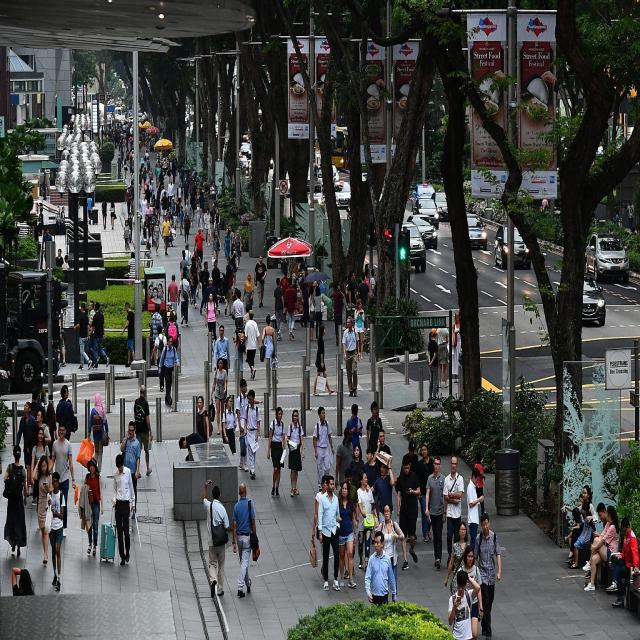body: (472, 512, 502, 639), (49, 420, 80, 540), (581, 504, 620, 593), (202, 478, 230, 599), (231, 482, 260, 598), (559, 482, 598, 566), (605, 516, 639, 608), (453, 544, 484, 640), (110, 453, 136, 567), (2, 444, 28, 558), (396, 453, 421, 571), (317, 473, 341, 592), (378, 503, 405, 603), (44, 471, 66, 592), (442, 454, 465, 569), (236, 378, 264, 472), (31, 454, 54, 565), (364, 530, 397, 606), (447, 568, 481, 640), (334, 479, 356, 590), (425, 454, 446, 570), (81, 456, 105, 557), (399, 440, 420, 545), (366, 450, 395, 526), (16, 400, 38, 499), (30, 426, 50, 530), (310, 473, 329, 582), (443, 520, 470, 596), (312, 405, 335, 494), (87, 392, 111, 476), (132, 383, 153, 478), (120, 420, 140, 519), (356, 471, 375, 574), (584, 502, 607, 587), (266, 406, 286, 498), (242, 388, 262, 479), (343, 467, 359, 580), (466, 467, 486, 554), (286, 408, 305, 498), (312, 323, 335, 397), (418, 443, 435, 542), (157, 334, 180, 407), (341, 315, 361, 397), (570, 500, 592, 570), (88, 301, 110, 370), (210, 357, 227, 436), (334, 426, 354, 491), (212, 323, 230, 395), (362, 447, 381, 514), (74, 301, 92, 371), (243, 309, 260, 380), (150, 325, 167, 393), (120, 301, 136, 370), (365, 401, 384, 458), (426, 328, 440, 402), (56, 386, 74, 441), (473, 451, 488, 516), (259, 314, 276, 371), (86, 299, 100, 368), (271, 276, 285, 342), (284, 276, 298, 341), (222, 396, 237, 456), (427, 329, 440, 398), (568, 494, 584, 550), (346, 403, 363, 455), (371, 427, 392, 469), (232, 317, 246, 380), (436, 327, 450, 390), (196, 395, 214, 443), (332, 278, 344, 347), (452, 310, 463, 384), (178, 432, 205, 462), (107, 92, 134, 122), (11, 565, 36, 596), (349, 442, 365, 490), (253, 254, 267, 308), (205, 291, 219, 344), (298, 267, 310, 328), (151, 302, 163, 363), (45, 402, 57, 460), (354, 298, 365, 360), (164, 312, 180, 354), (178, 270, 190, 326), (189, 255, 201, 308), (222, 264, 234, 316), (99, 121, 122, 148), (199, 260, 210, 314), (307, 284, 317, 343), (288, 272, 298, 330), (232, 290, 246, 331), (204, 275, 219, 313), (36, 409, 51, 447), (314, 286, 324, 340), (279, 268, 289, 322), (570, 506, 584, 544), (138, 127, 161, 150), (193, 226, 205, 270), (167, 273, 180, 312), (356, 272, 370, 308), (339, 278, 348, 331), (42, 227, 53, 270), (33, 374, 47, 407), (29, 387, 43, 419), (243, 272, 254, 310), (59, 316, 67, 368), (347, 270, 358, 306), (229, 242, 238, 286), (222, 227, 232, 266), (150, 206, 159, 247), (211, 258, 221, 294), (147, 282, 165, 302), (162, 215, 170, 257), (153, 219, 162, 256), (234, 229, 242, 270), (204, 206, 212, 247), (164, 301, 178, 324), (182, 209, 191, 244), (58, 384, 72, 406), (135, 208, 143, 246), (212, 229, 220, 265), (194, 249, 203, 281), (364, 267, 372, 300), (86, 192, 94, 225), (179, 249, 190, 273), (109, 197, 117, 229), (182, 176, 190, 208), (156, 147, 177, 159), (124, 186, 132, 216), (140, 192, 148, 222), (196, 202, 204, 232), (123, 220, 130, 254), (627, 198, 634, 232), (368, 267, 376, 296), (36, 207, 44, 236), (55, 248, 65, 270), (161, 190, 168, 221), (184, 242, 193, 266), (184, 198, 193, 222), (55, 206, 62, 236), (101, 196, 107, 230), (143, 221, 150, 250), (176, 181, 184, 206), (174, 196, 181, 224), (127, 212, 133, 244), (214, 208, 220, 240), (155, 193, 161, 224), (210, 202, 218, 225), (167, 179, 174, 205), (190, 191, 196, 221), (178, 204, 184, 234), (244, 304, 252, 326), (144, 184, 151, 208), (198, 190, 204, 218), (190, 171, 198, 192), (156, 184, 162, 211), (144, 202, 152, 222), (180, 265, 190, 281), (171, 159, 177, 185), (122, 120, 133, 134), (364, 263, 372, 281), (158, 169, 164, 193), (168, 209, 174, 232), (180, 165, 186, 188), (148, 167, 154, 190), (541, 195, 549, 212), (170, 197, 177, 216), (128, 168, 134, 190), (172, 210, 178, 232), (144, 148, 150, 170), (228, 223, 234, 244), (156, 163, 161, 188), (153, 162, 158, 186), (160, 185, 167, 202), (166, 211, 172, 230), (123, 156, 128, 178), (125, 145, 130, 167), (146, 177, 151, 198), (140, 154, 145, 175), (60, 206, 66, 223), (150, 193, 156, 210), (122, 136, 128, 153), (143, 166, 147, 191), (128, 156, 133, 176), (64, 254, 71, 268), (613, 207, 619, 223), (144, 214, 150, 229), (149, 200, 155, 214), (210, 180, 216, 194), (162, 156, 166, 177), (150, 180, 154, 200), (120, 147, 124, 167), (139, 174, 142, 200), (125, 133, 129, 152), (167, 164, 171, 183), (156, 156, 162, 168), (146, 155, 150, 172), (128, 147, 132, 164), (129, 133, 133, 150), (166, 156, 170, 173), (198, 188, 204, 198), (129, 185, 133, 195), (144, 180, 148, 190), (132, 152, 134, 168)
